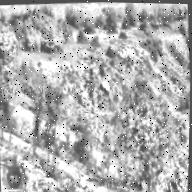boar: (87, 64, 94, 76), (103, 85, 110, 96), (98, 83, 105, 92)
